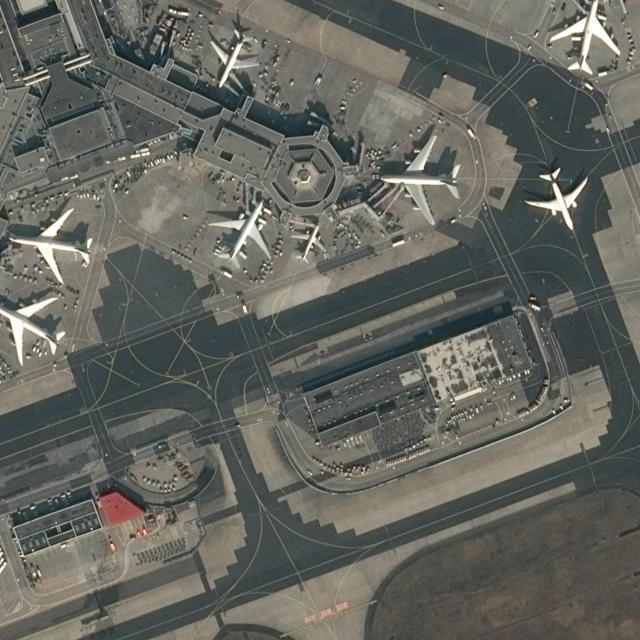Aircraft: (377, 133, 469, 225), (10, 207, 96, 279), (547, 0, 623, 77), (0, 293, 68, 372), (204, 201, 272, 273), (523, 166, 590, 229), (209, 27, 256, 89), (291, 221, 325, 265)
